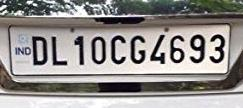0: (88, 35, 106, 64)
1: (71, 33, 87, 66)
3: (207, 32, 225, 64)
4: (148, 33, 167, 64)
6: (168, 33, 184, 63)
9: (187, 33, 205, 63)
C: (109, 33, 126, 65)
D: (29, 34, 49, 65)
G: (128, 33, 147, 65)
L: (49, 34, 68, 66)
